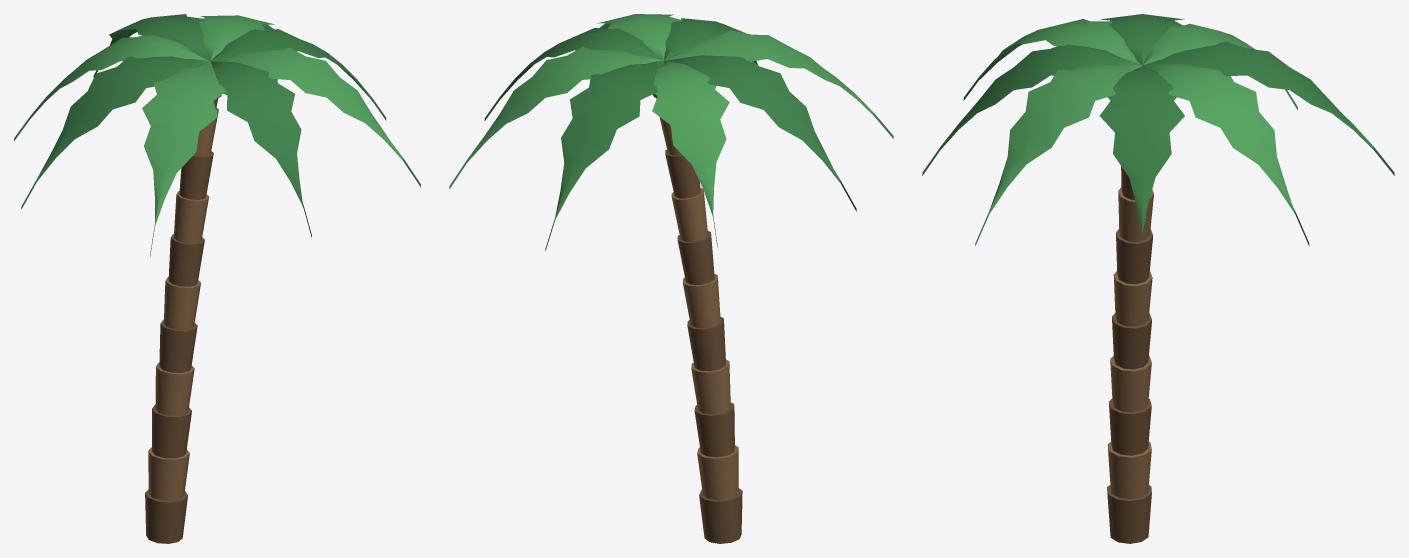
The model's file is b_palm_a.gltf.
The picture shows the model from 3 angles, left to right: view 1: azimuth 30°, elevation 25°; view 2: azimuth 150°, elevation 25°; view 3: azimuth 270°, elevation 25°; orthographic projection. The views are drawn at different scales.
Parts seen in each view (by area): view 1: b_palm_a; view 2: b_palm_a; view 3: b_palm_a.
Boxes of the visible parts, box(x1,y1,x2,y2) form: b_palm_a: box(14, 14, 420, 543); b_palm_a: box(449, 14, 893, 543); b_palm_a: box(922, 14, 1394, 543).
Size of the model in its own units: 3.53 by 4.35 by 3.65.
Materials: 1 (1 with a texture image).
